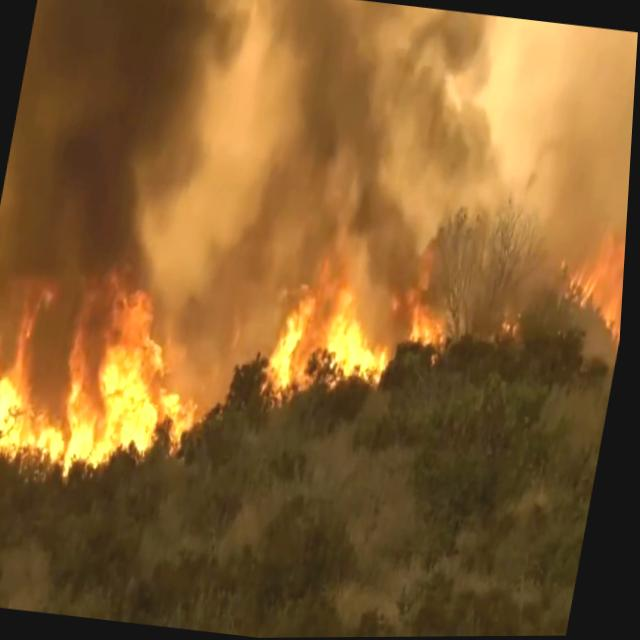fire: (0, 239, 241, 541)
smoke: (1, 0, 540, 251)
